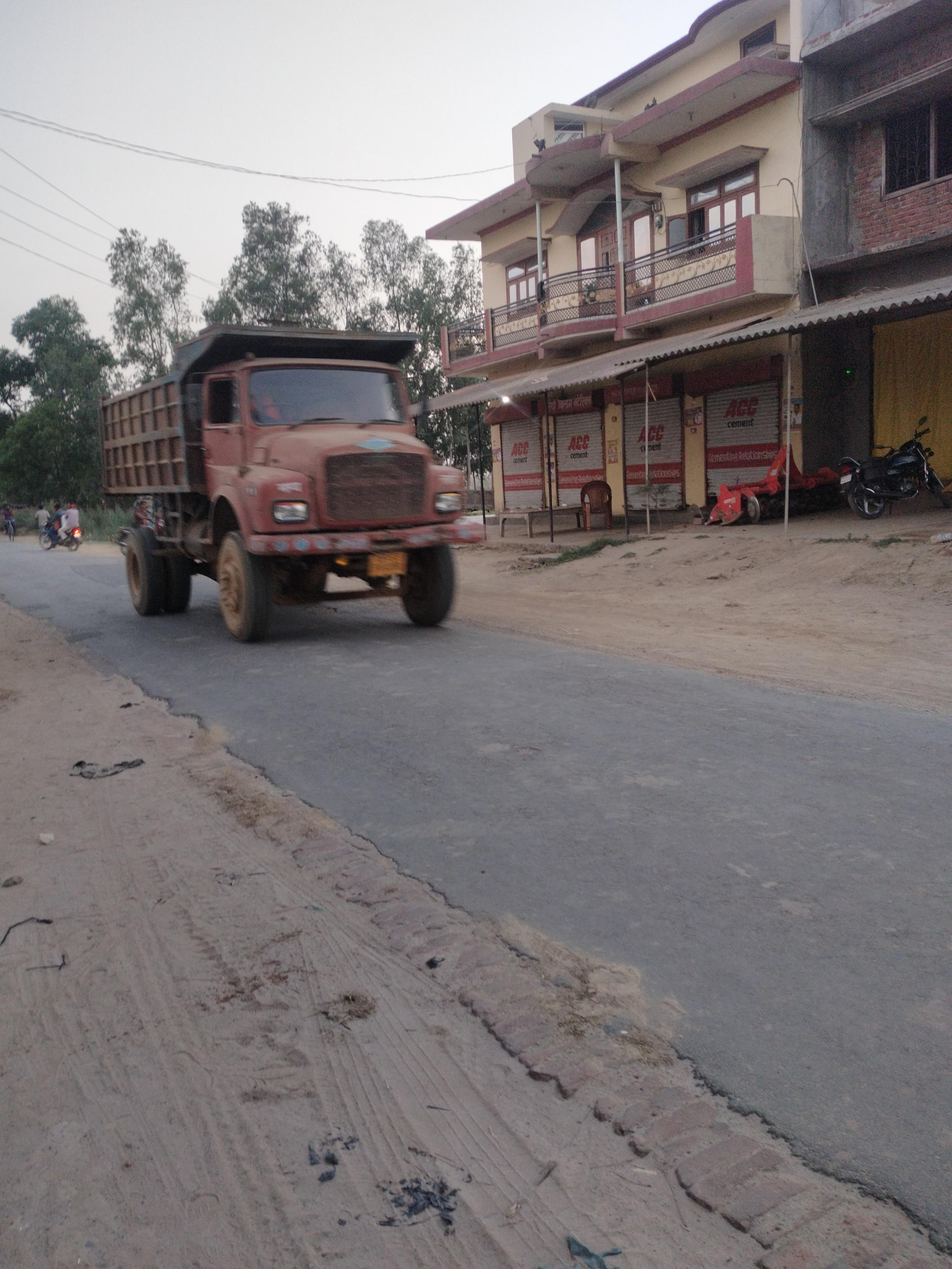non-ambulance: (44, 104, 498, 738)
